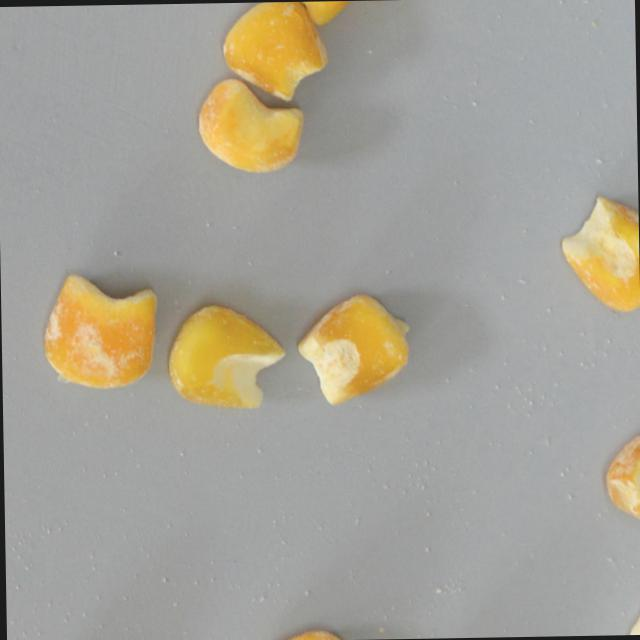pelicula: (41, 272, 159, 389), (166, 302, 287, 411), (296, 293, 411, 405), (221, 0, 329, 103), (196, 77, 306, 174), (559, 194, 640, 313), (602, 418, 640, 526), (272, 0, 366, 27), (628, 578, 640, 635)
